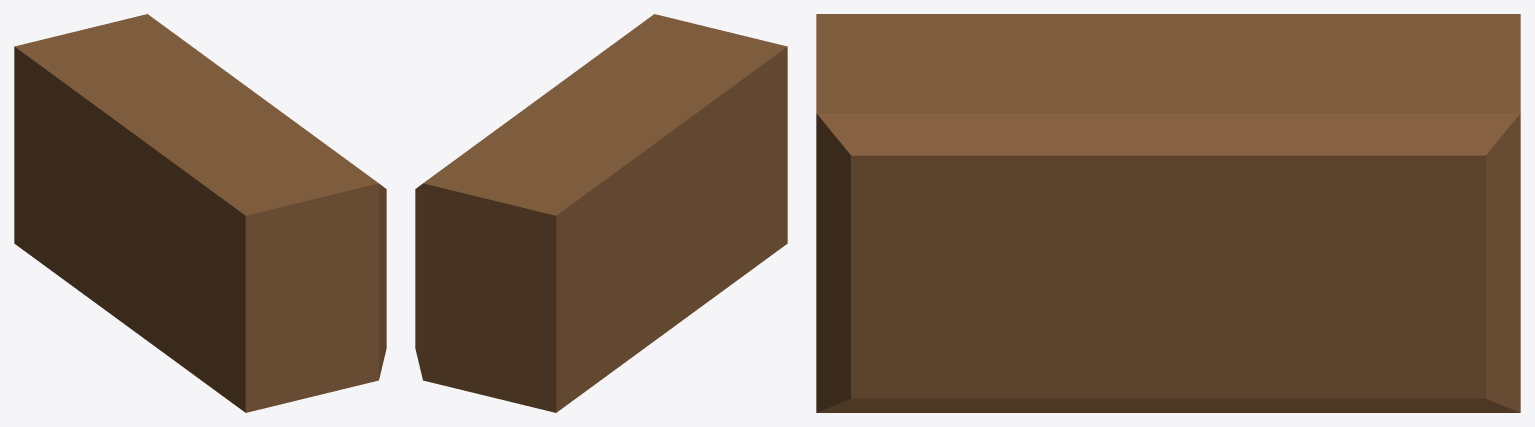
Rendered from dialog button.fbx.
The picture shows the model from 3 angles, left to right: view 1: azimuth 30°, elevation 25°; view 2: azimuth 150°, elevation 25°; view 3: azimuth 270°, elevation 25°; orthographic projection. The views are drawn at different scales.
Visible parts, largest first — view 1: Cube.006; view 2: Cube.006; view 3: Cube.006.
Part boxes in pixels (box(x1,y1,x2,y2)): Cube.006: box(14, 14, 386, 412); Cube.006: box(415, 14, 787, 412); Cube.006: box(816, 14, 1520, 412).
Bounding box in the file's own units: 24.98 × 30.92 × 65.78.
